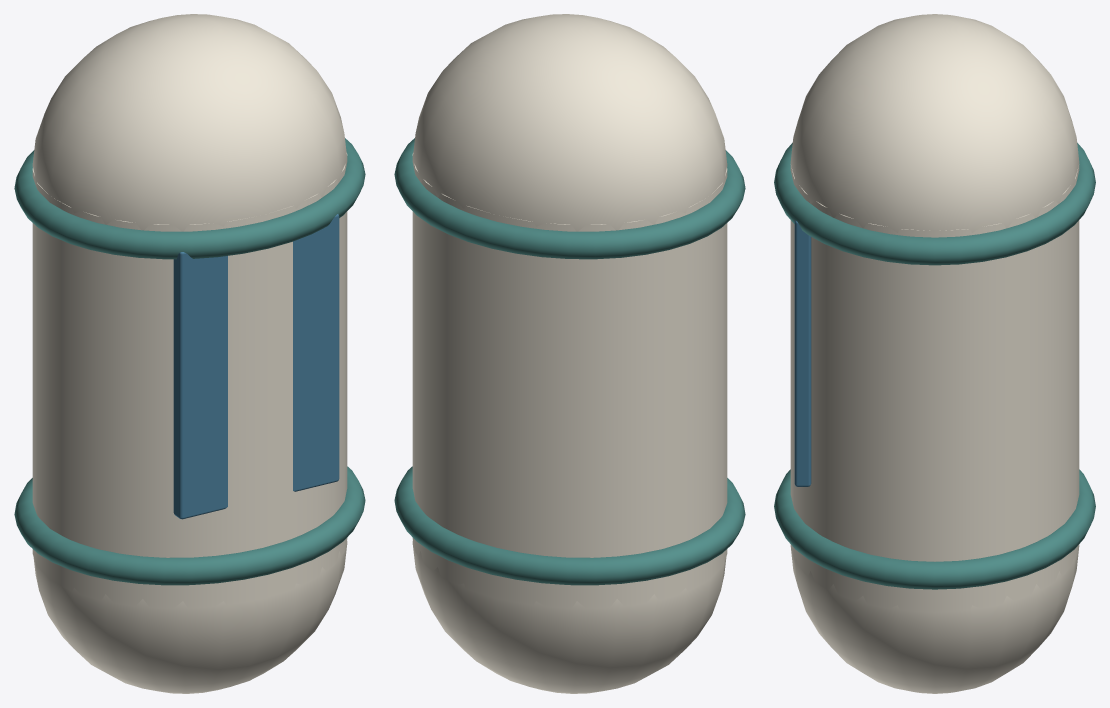
Rendered from wp-capsule-spatiale.glb.
3 renders of one model, left to right at view 1: azimuth 30°, elevation 25°; view 2: azimuth 150°, elevation 25°; view 3: azimuth 270°, elevation 25°, orthographic.
Visible parts, largest first — view 1: wp-capsule-spatiale; view 2: wp-capsule-spatiale; view 3: wp-capsule-spatiale.
Part boxes in pixels (box(x1,y1,x2,y2)): wp-capsule-spatiale: box(14, 14, 365, 693); wp-capsule-spatiale: box(394, 14, 745, 693); wp-capsule-spatiale: box(774, 14, 1095, 693).
Bounding box in the file's own units: 1 × 2 × 0.9.
